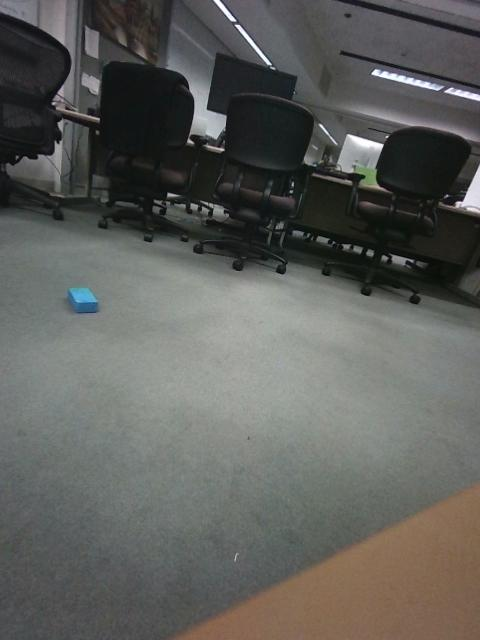block: (200, 404, 260, 481)
